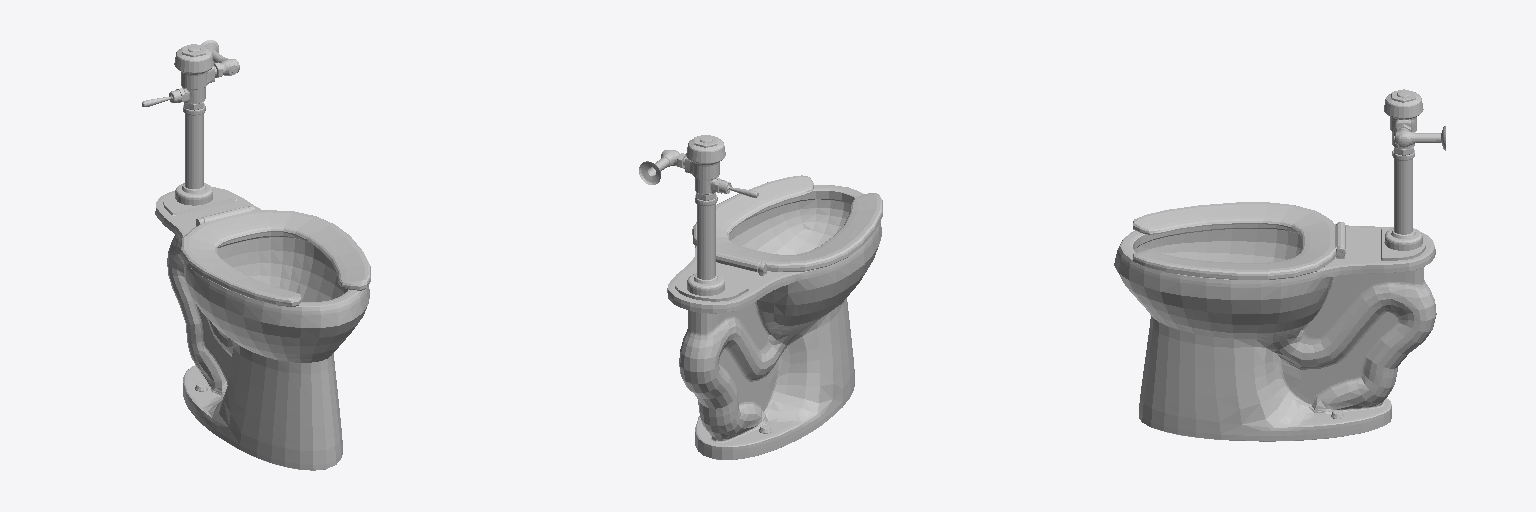
File: toilet.obj
3 views of the same model, side by side, from view 1: azimuth 30°, elevation 25°; view 2: azimuth 150°, elevation 25°; view 3: azimuth 270°, elevation 25° (orthographic).
Visible parts, largest first — view 1: toilet, seat, flush; view 2: toilet, seat, flush; view 3: toilet, seat, flush.
Boxes of the visible parts, x1,y1,x2,y2 form: toilet: [155, 187, 369, 470]; seat: [180, 207, 370, 306]; flush: [142, 40, 239, 205]; toilet: [667, 185, 881, 459]; seat: [692, 175, 882, 271]; flush: [639, 135, 758, 295]; toilet: [1114, 222, 1436, 441]; seat: [1133, 202, 1345, 279]; flush: [1384, 89, 1445, 250].
Bounding box in the file's own units: 1.24 × 2.6 × 2.41.